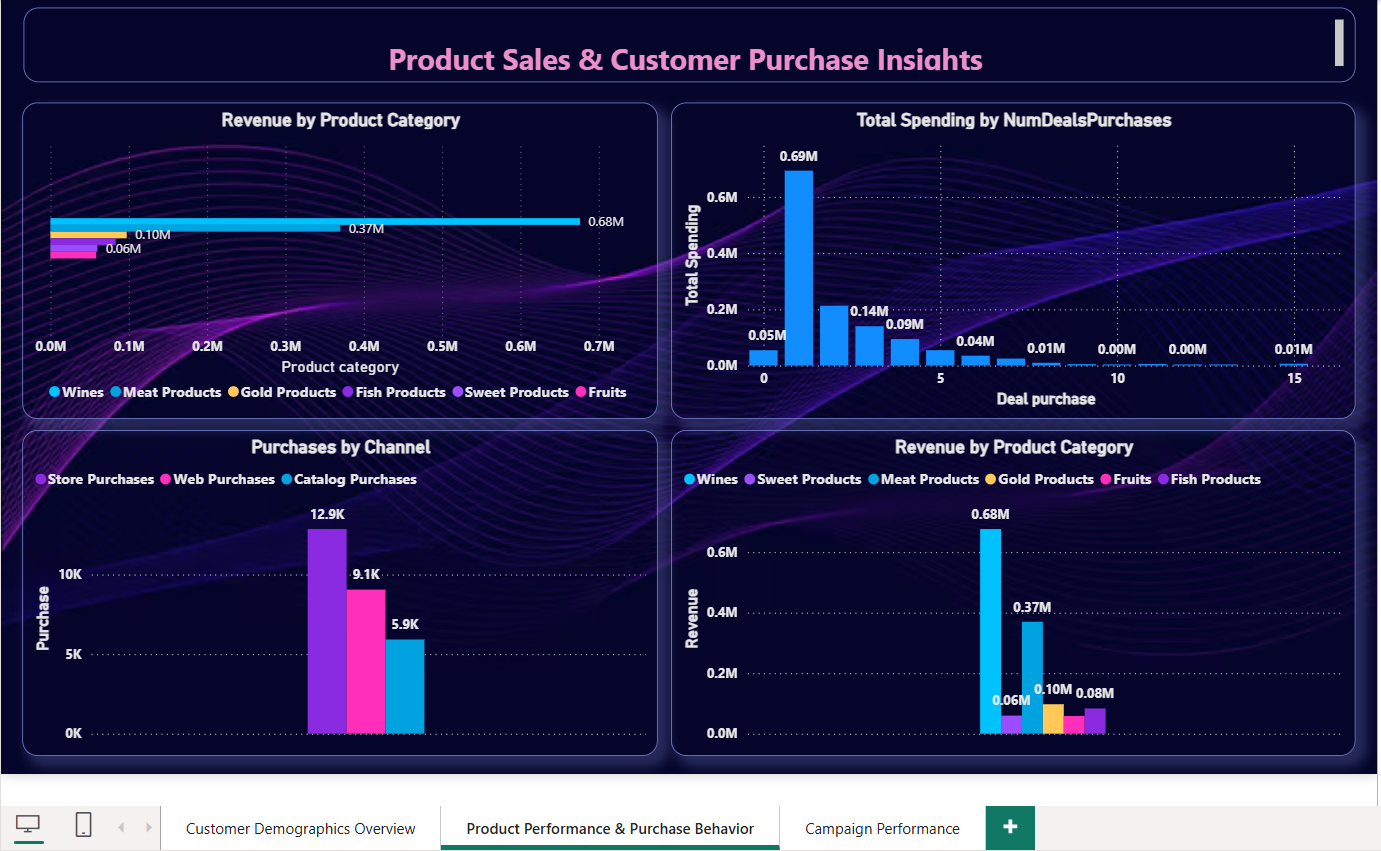

Layout of this report page (visuals, bound fields, positions):
{"tool":"powerbi","page":{"name":"Product Performance & Purchase Behavior","canvas":[1280,720],"ordinal":1},"visuals":[{"type":"clusteredBarChart","title":"Revenue by Product Category","fields":{"Y":["Sum(marketing_campaign.MntWines)","Sum(marketing_campaign.MntMeatProducts)","Sum(marketing_campaign.MntGoldProds)","Sum(marketing_campaign.MntFishProducts)","Sum(marketing_campaign.MntSweetProducts)","Sum(marketing_campaign.MntFruits)"]},"box":[20,95.7,591.4,294.3],"z":0},{"type":"clusteredColumnChart","fields":{"Category":["marketing_campaign.NumDealsPurchases"],"Y":["Product_Category.Total Spending"]},"box":[622.9,95.7,637.1,294.3],"z":1000},{"type":"textbox","box":[20.6,6.9,1239.1,70],"z":2000},{"type":"clusteredColumnChart","title":"Purchases by Channel","fields":{"Y":["Sum(marketing_campaign.NumStorePurchases)","Sum(marketing_campaign.NumWebPurchases)","Sum(marketing_campaign.NumCatalogPurchases)"]},"box":[20,400,591.4,302.9],"z":3000},{"type":"clusteredColumnChart","title":"Revenue by Product Category","fields":{"Y":["Sum(marketing_campaign.MntWines)","Sum(marketing_campaign.MntSweetProducts)","Sum(marketing_campaign.MntMeatProducts)","Sum(marketing_campaign.MntGoldProds)","Sum(marketing_campaign.MntFruits)","Sum(marketing_campaign.MntFishProducts)"]},"box":[622.9,400,637.1,302.9],"z":4000},{"type":"actionButton","box":[0,0,100,40],"z":6000}]}

Visuals, with their boxes on the page's 1280x720 design canvas (x1, y1, x2, y2). These are canvas units, not pixel positions in the 1381x851 screenshot, which may show the page scaled, cropped or inside an application window:
"Revenue by Product Category" clusteredBarChart: x1=20, y1=96, x2=611, y2=390
clusteredColumnChart - marketing_campaign.NumDealsPurchases x Product_Category.Total Spending: x1=623, y1=96, x2=1260, y2=390
textbox: x1=21, y1=7, x2=1260, y2=77
"Purchases by Channel" clusteredColumnChart: x1=20, y1=400, x2=611, y2=703
"Revenue by Product Category" clusteredColumnChart: x1=623, y1=400, x2=1260, y2=703
actionButton: x1=0, y1=0, x2=100, y2=40
